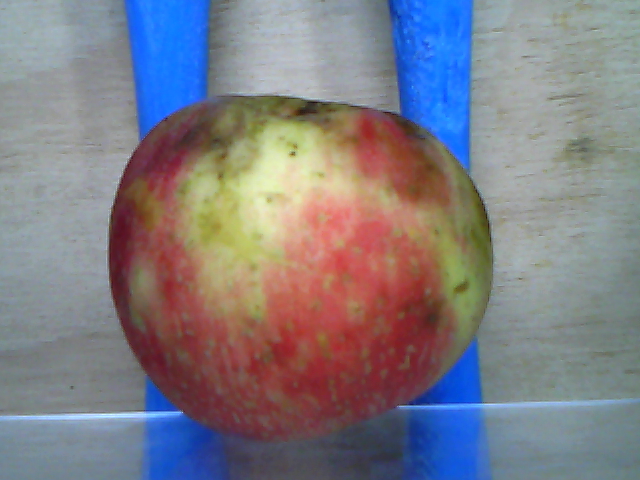bruise: (378, 114, 455, 210)
